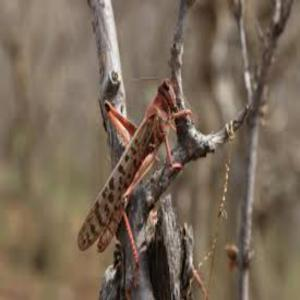locust: (64, 74, 220, 248)
